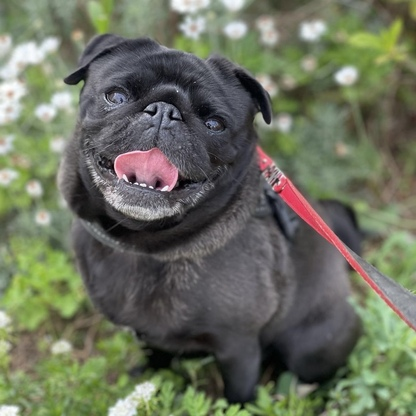Pug: (54, 29, 370, 409)
